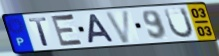9: (142, 9, 168, 41)
A: (87, 13, 116, 45)
E: (50, 13, 86, 48)
T: (27, 16, 51, 47)
U: (162, 7, 195, 40)
V: (104, 9, 132, 45)
